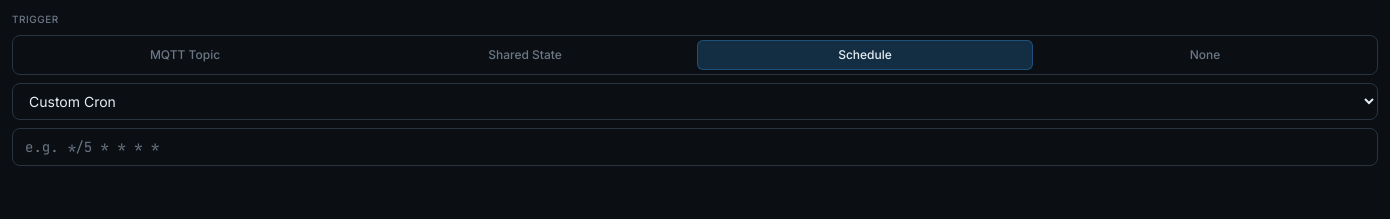
Test: TriggerSelector — CronPicker (Custom Picker) › shows the interval picker UI by default
Select "Custom Picker" in the dropdown at (695, 102), box [12,83,1378,120]
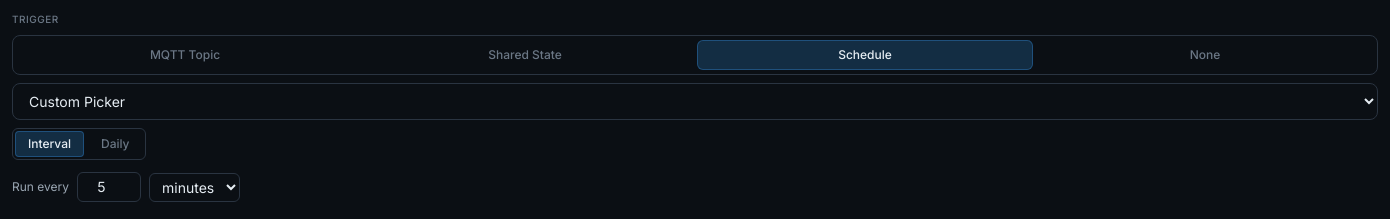
Now the button "Interval" is shown, box [15,131,84,157]
Now the button "Daily" is shown, box [88,131,142,157]
Now the text "Run every" is shown, box [12,179,69,195]
